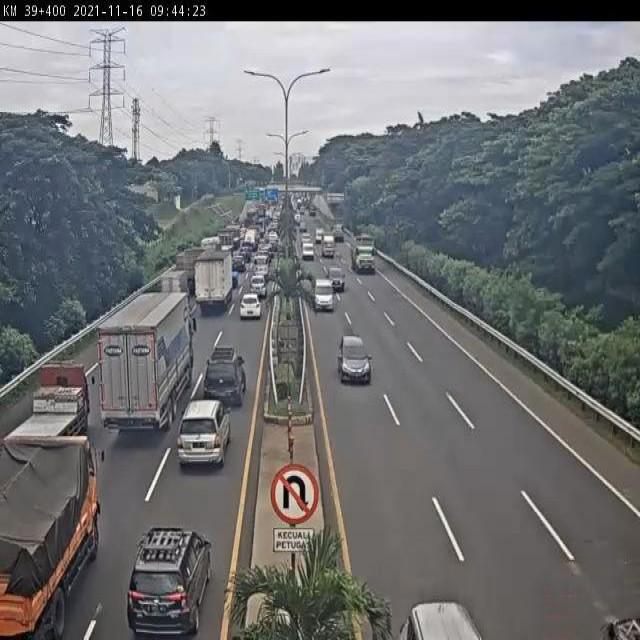car: (128, 525, 212, 635), (177, 399, 232, 468), (203, 346, 247, 410), (337, 333, 373, 387), (314, 277, 335, 312), (240, 293, 262, 319), (327, 265, 344, 291)
truck-l-: (96, 292, 198, 432), (350, 235, 377, 276)
truck-m-: (0, 433, 105, 640), (0, 361, 94, 456), (194, 248, 234, 311)
